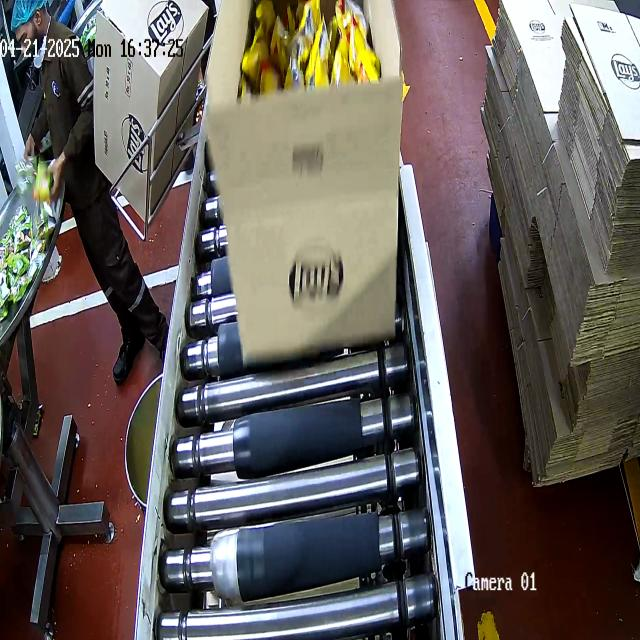SALTED: (245, 3, 377, 90)
